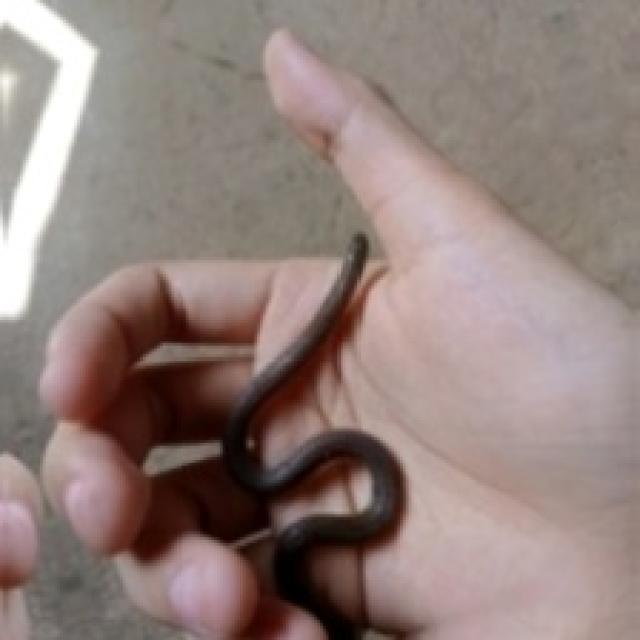gervais worm snake: (223, 234, 403, 637)
